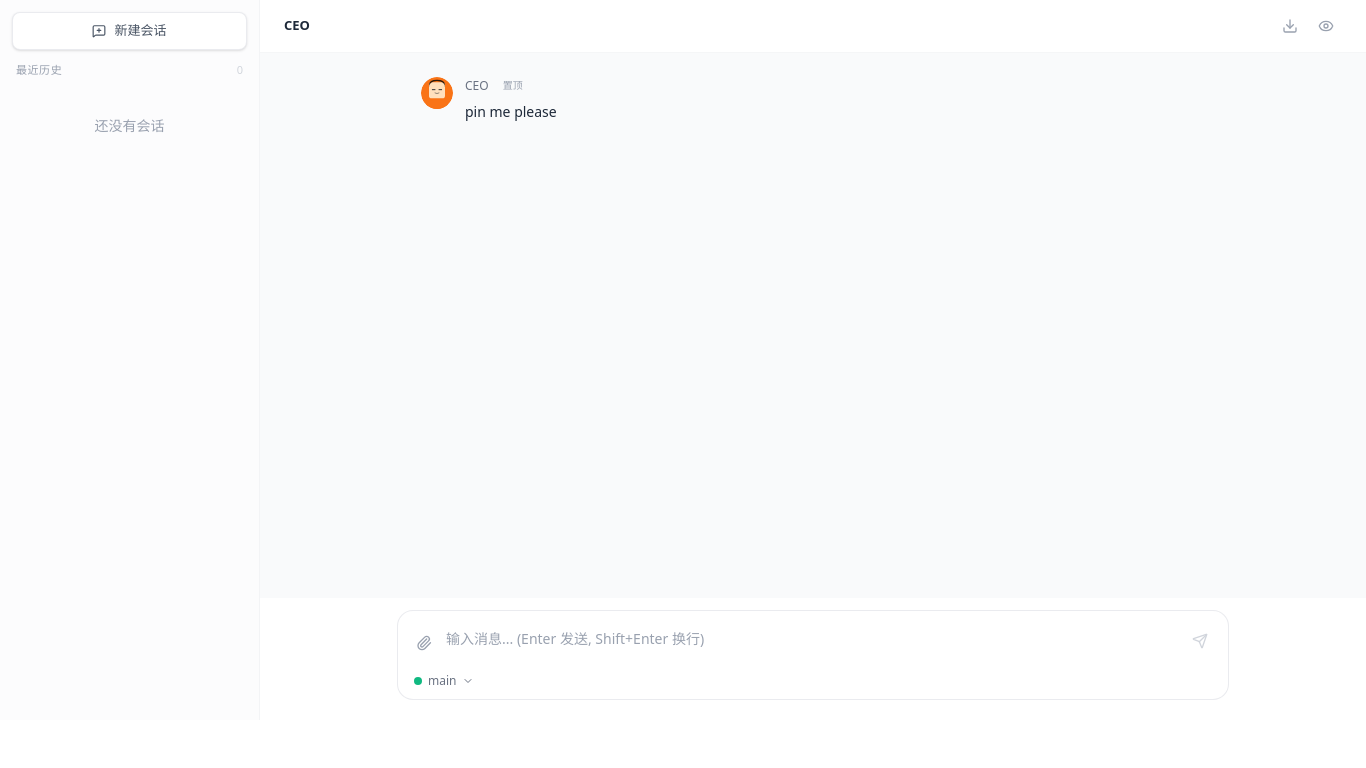
ChatPage › pins a message into the pinned strip
Click the button "置顶" at (513, 86), box [497, 77, 529, 94]
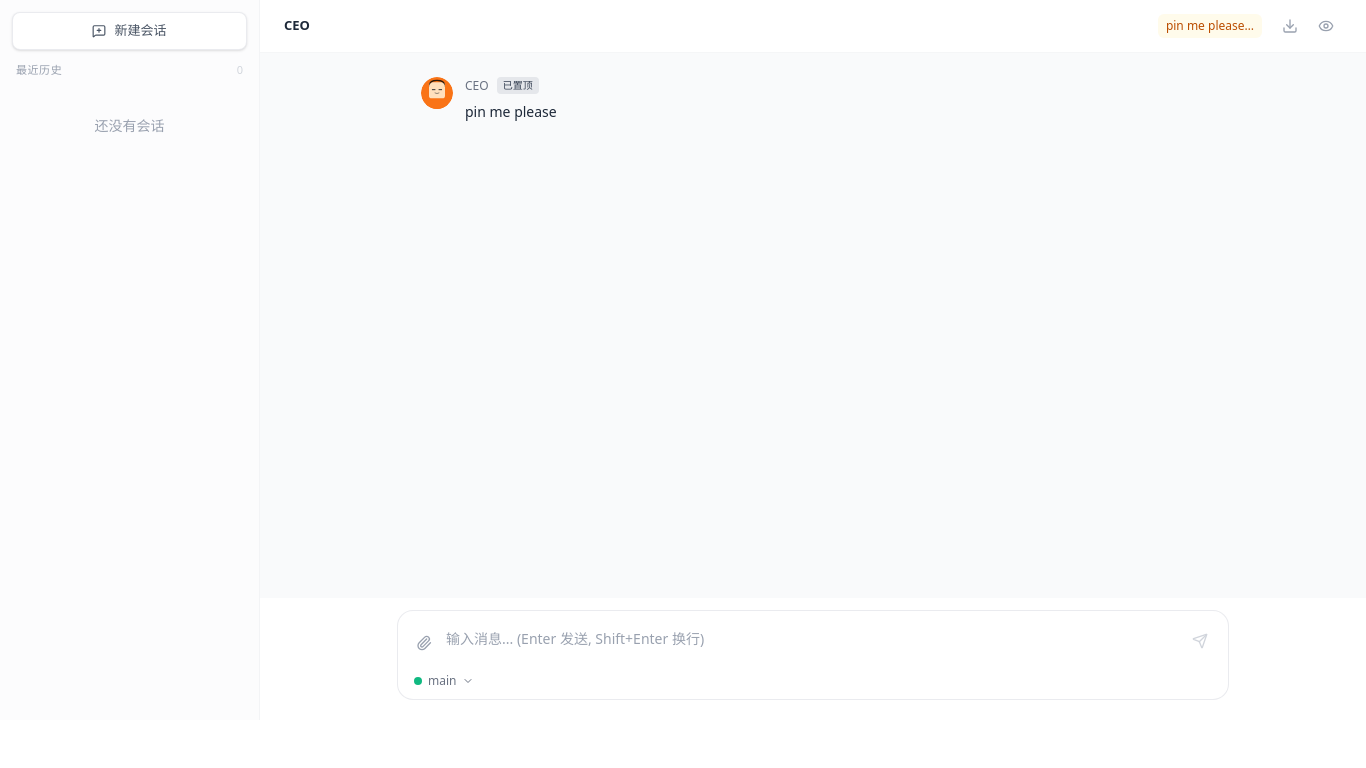
expect the button "已置顶" is shown: met, box [497, 77, 539, 94]
expect the button "pin me please…" is shown: met, box [1158, 14, 1262, 38]
